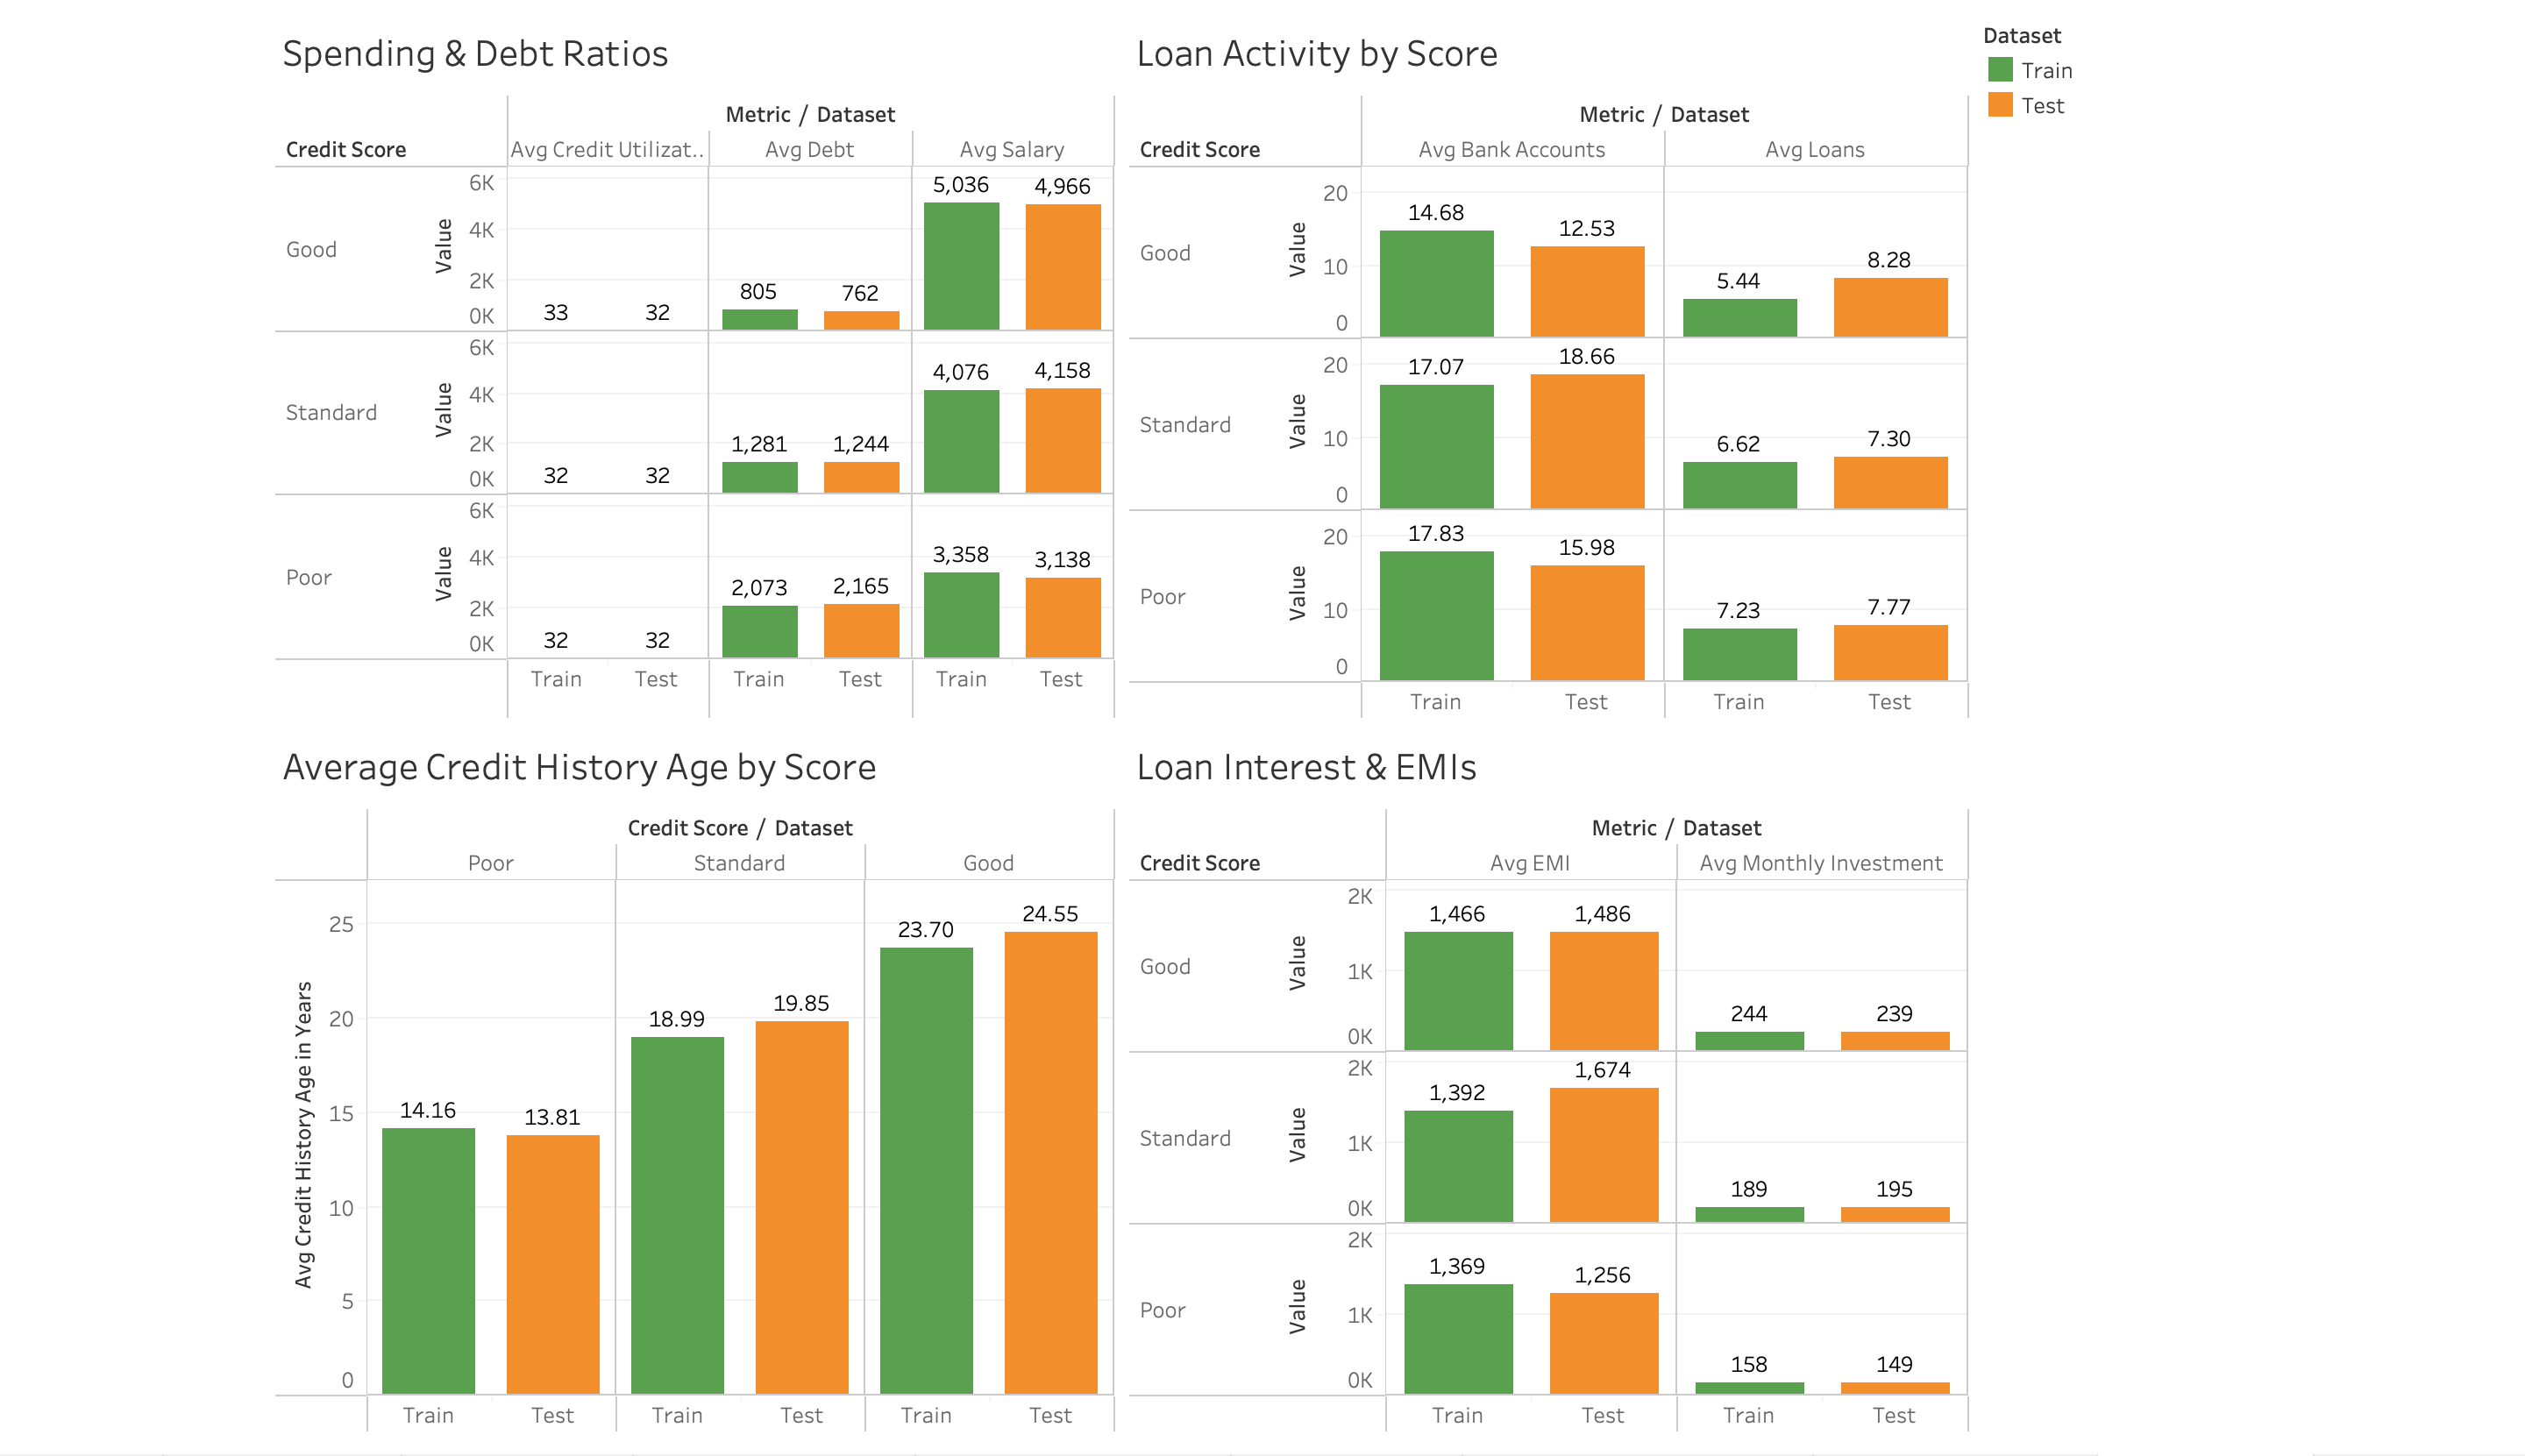

The dashboard page shown, as its layout file describes it:
{"tool":"tableau","page":{"name":"Financial Profile","canvas":[1000,1000],"units":"permille","ordinal":3},"visuals":[{"type":"worksheet","title":"Spending & Debt Ratios","mark":"Bar","rows":["Credit_Score","Pivot Field Values"],"cols":["Pivot Field Names","Dataset"],"box":[7,10.4,422.9,489.6]},{"type":"worksheet","title":"Loan Activity by Score","mark":"Automatic","rows":["Credit_Score","Pivot Field Values"],"cols":["Pivot Field Names","Dataset"],"box":[429.9,10.4,422.9,489.6]},{"type":"legend","title":"Spending & Debt Ratios","param":"[federated.1b9i3090euaf7a10hsdgf173ic68].[none:Dataset:nk]","box":[852.9,10.4,140.1,85.9]},{"type":"worksheet","title":"Average Credit History Age by Score","mark":"Bar","rows":["Avg_History_Age_Years"],"cols":["Credit_Score","Dataset"],"box":[7,500,422.9,489.6]},{"type":"worksheet","title":"Loan Interest & EMIs","mark":"Automatic","rows":["Credit_Score","Pivot Field Values"],"cols":["Pivot Field Names","Dataset"],"box":[429.9,500,422.9,489.6]}]}

Visuals, with their boxes on the dashboard's canvas, which has no fixed pixel size, in thousandths of its width and height (x1, y1, x2, y2). These are canvas units, not pixel positions in the 2525x1456 screenshot, which may show the page scaled, cropped or inside an application window:
"Spending & Debt Ratios" worksheet (Bar marks): bbox=(7, 10, 430, 500)
"Loan Activity by Score" worksheet: bbox=(430, 10, 853, 500)
"Spending & Debt Ratios" legend: bbox=(853, 10, 993, 96)
"Average Credit History Age by Score" worksheet (Bar marks): bbox=(7, 500, 430, 990)
"Loan Interest & EMIs" worksheet: bbox=(430, 500, 853, 990)
